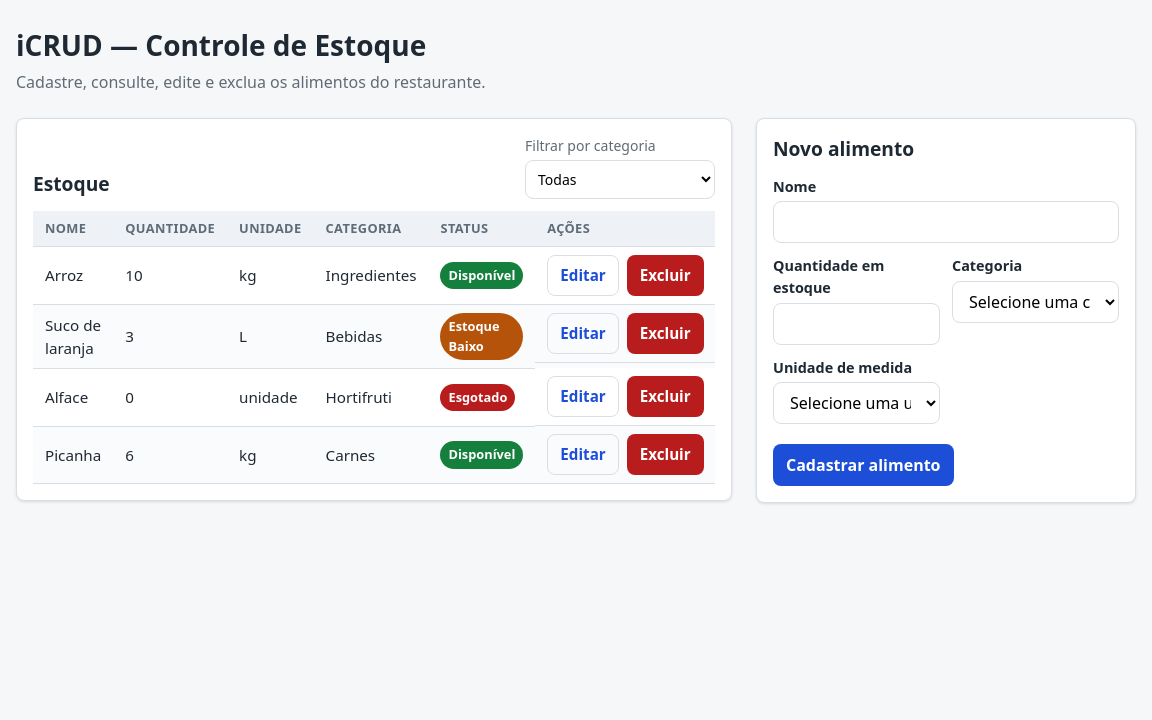
Scenario: US1 — create food › keeps every typed value when the network fails
Check: the text "Arroz" is shown, box [33,247,113,305]
Type "  Suco de laranja  " into the field labelled "Nome" at [946, 222], box [773,201,1119,243]
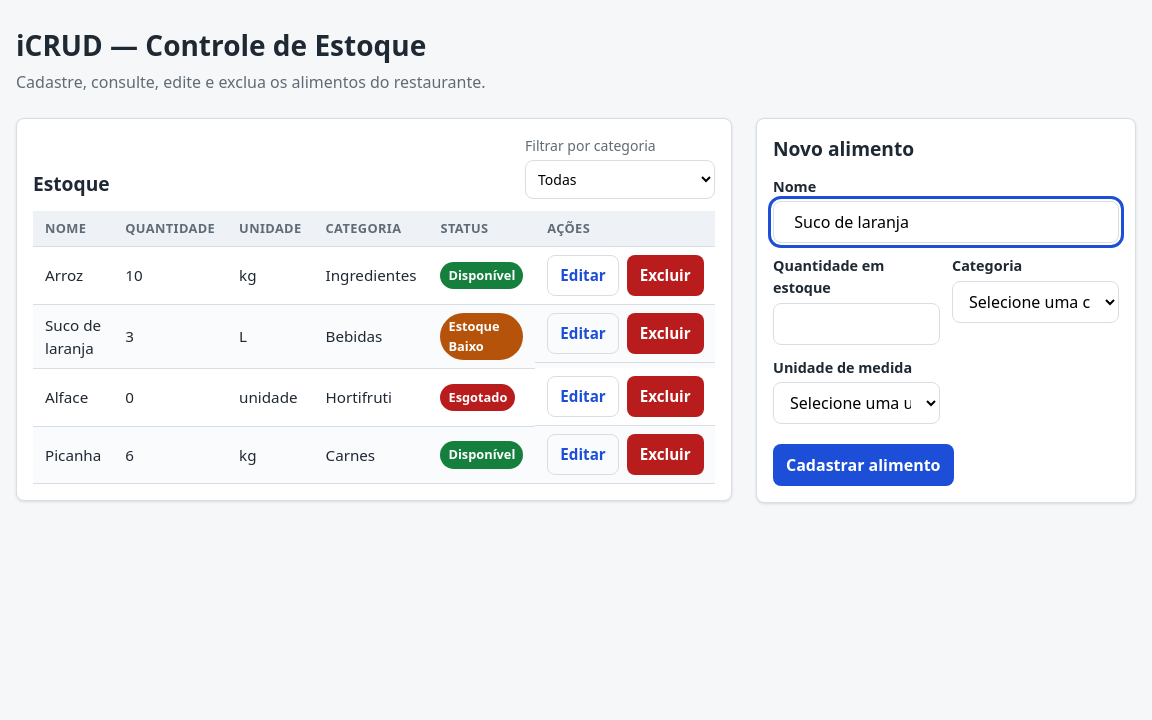
Type "12.5" into the number field labelled "Quantidade em estoque" at [856, 324], box [773,303,940,345]
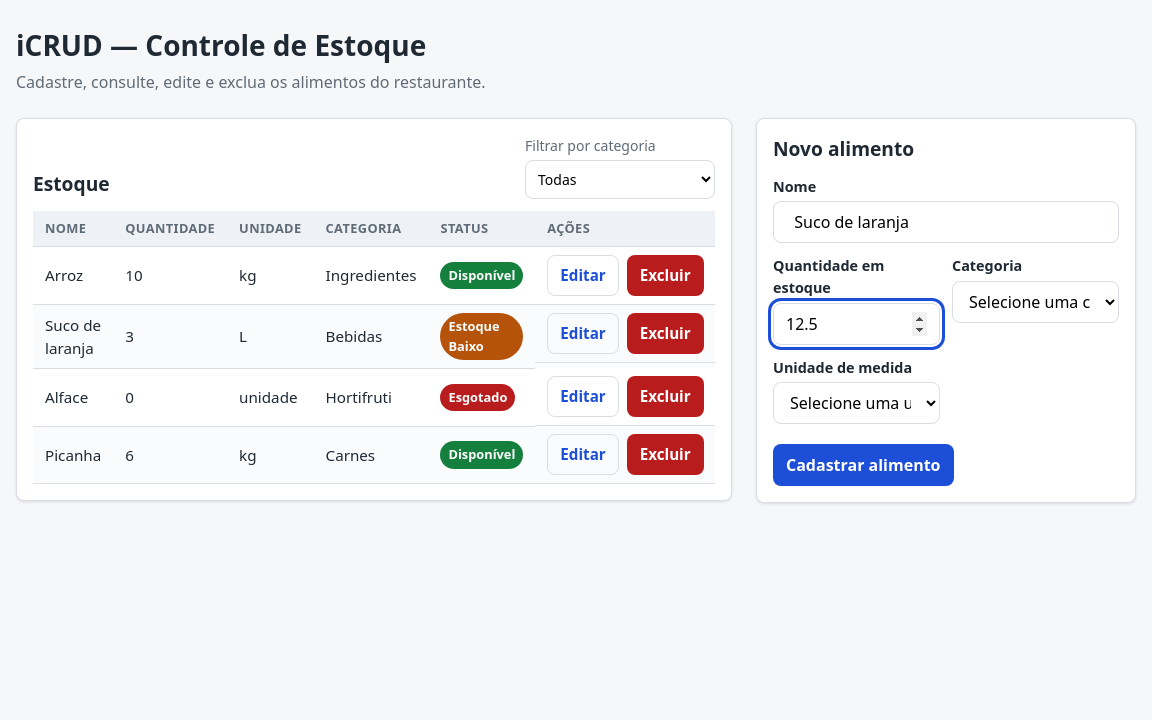
Select "Bebidas" in the dropdown labelled "Categoria" at [1036, 302], box [952,281,1119,323]
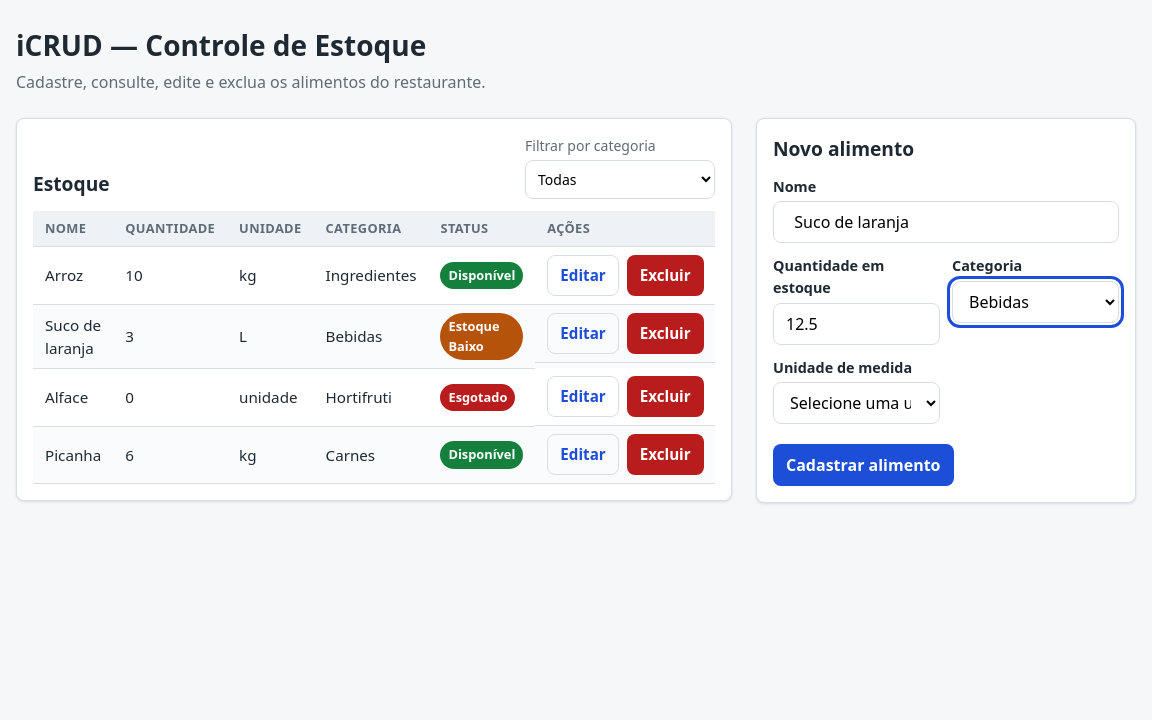
Select "L" in the dropdown labelled "Unidade de medida" at [856, 403], box [773,382,940,424]
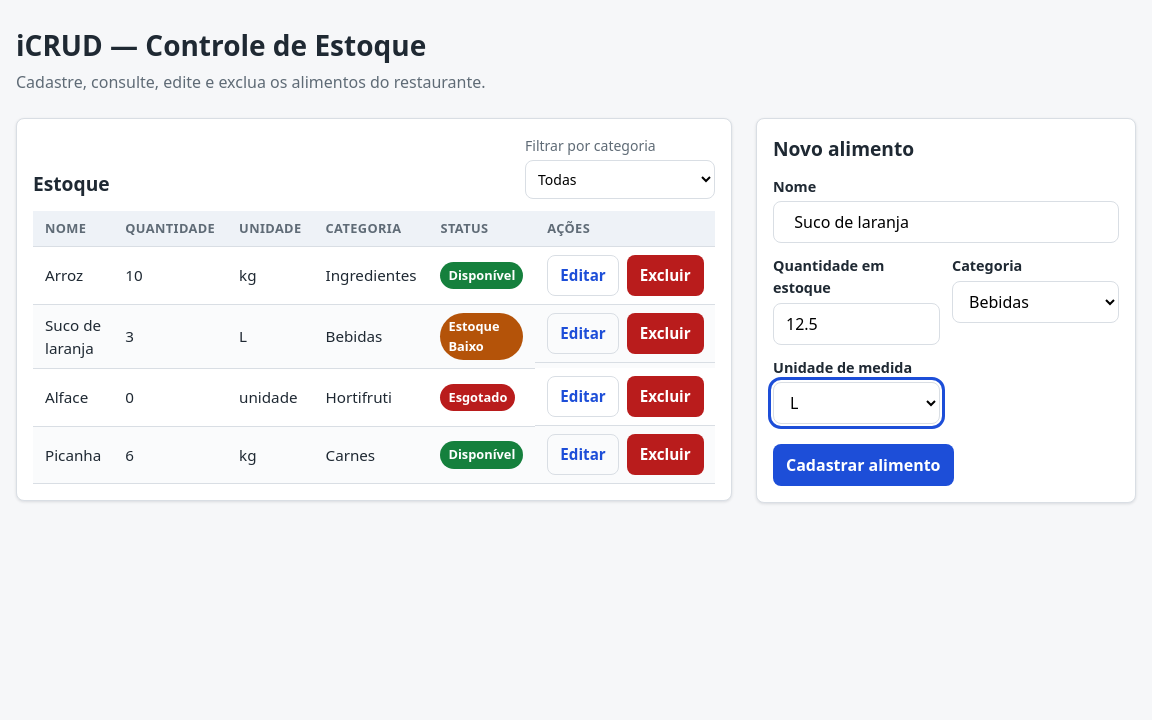
Click the button "Cadastrar alimento" at [863, 465], box [773,444,954,486]
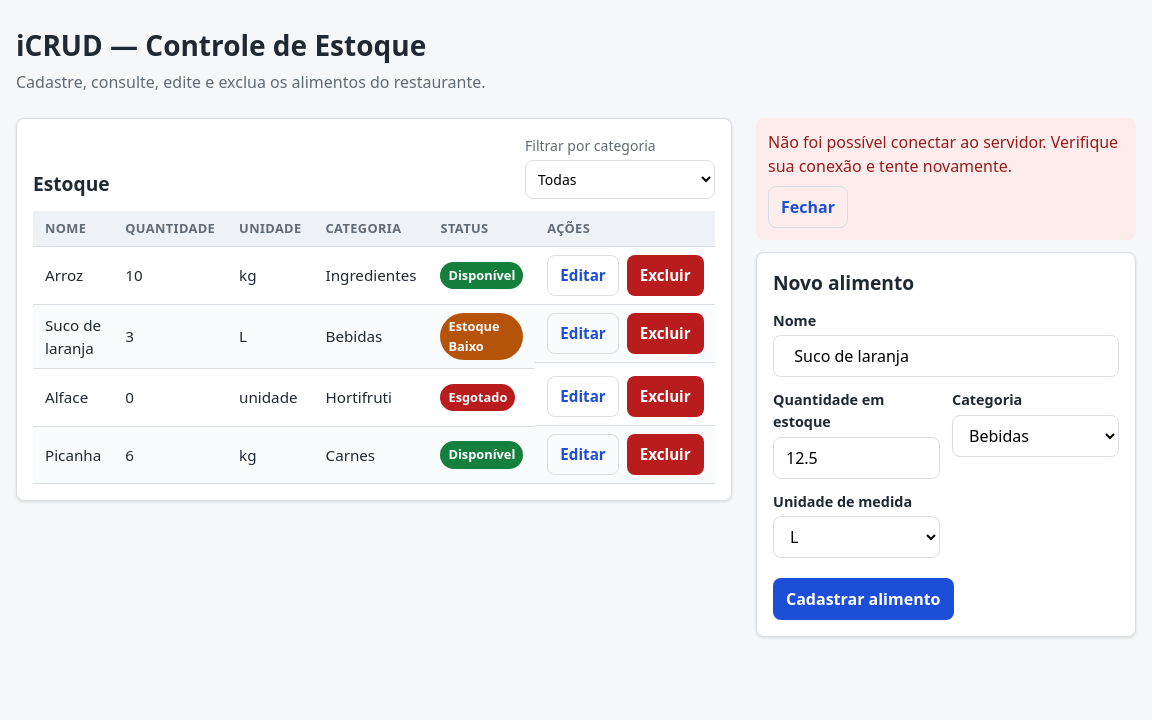
Check: the text "Não foi possível conectar ao servidor. Verifique sua conexão e tente novamente." is shown, box [768,130,1124,178]
